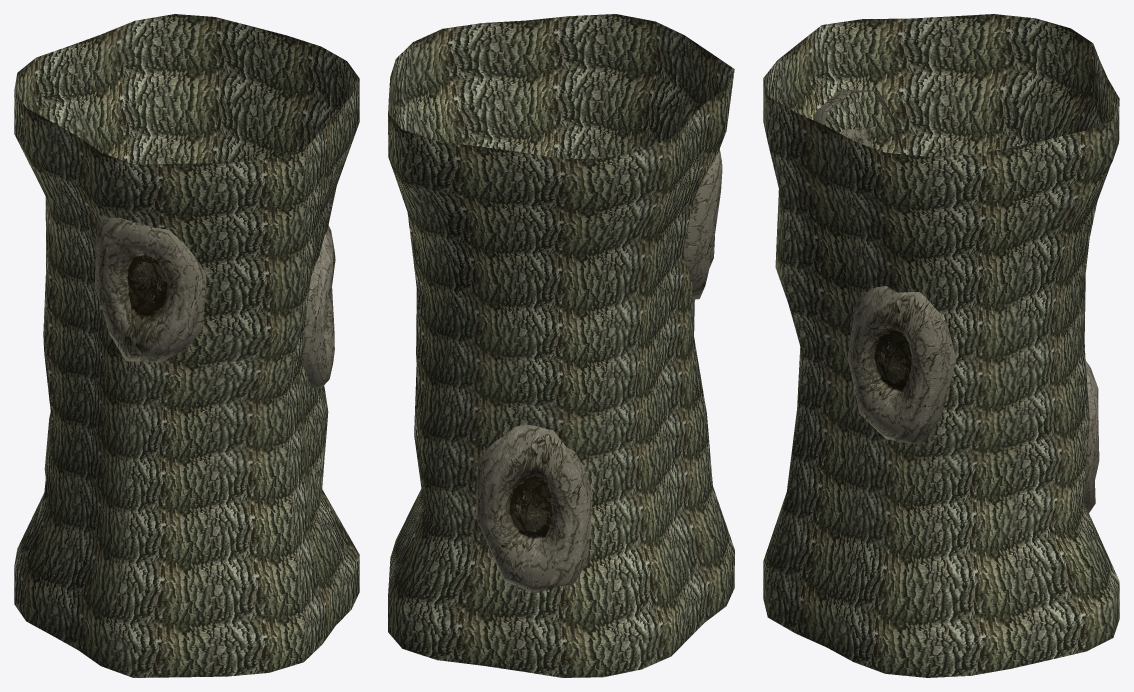
File: Stump13.fbx
3 views of the same model, side by side, from view 1: azimuth 30°, elevation 25°; view 2: azimuth 150°, elevation 25°; view 3: azimuth 270°, elevation 25° (orthographic).
Visible parts, largest first — view 1: Stump13; view 2: Stump13; view 3: Stump13.
Boxes of the visible parts, bbox=[...] form: Stump13: bbox=[14, 14, 359, 677]; Stump13: bbox=[388, 14, 734, 677]; Stump13: bbox=[763, 14, 1119, 677].
Size of the model in its own units: 11.76 by 20 by 12.39.
Materials: 2 (2 with a texture image).
